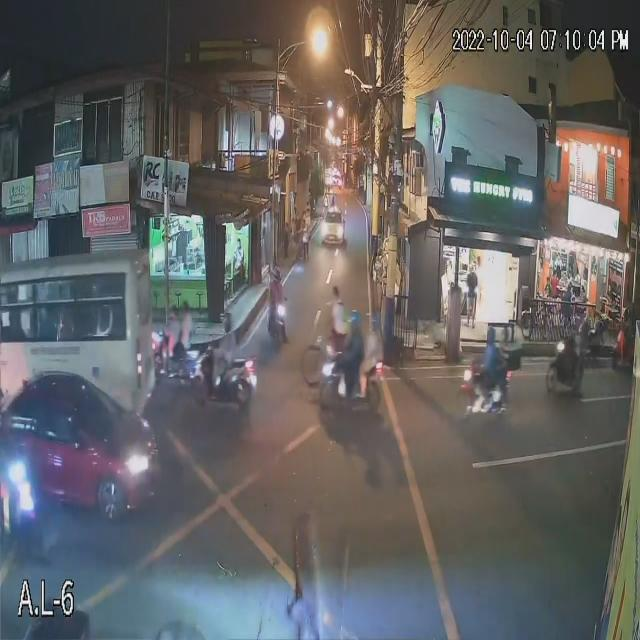0 motorcycle: (312, 359, 392, 421), (188, 359, 260, 412), (448, 363, 511, 419), (144, 331, 204, 389), (541, 347, 587, 399), (268, 300, 289, 342)
1 rider: (215, 331, 240, 383), (346, 328, 363, 386), (365, 332, 382, 389), (481, 345, 498, 391), (180, 311, 195, 353), (165, 320, 182, 356), (270, 280, 286, 315), (573, 329, 587, 368)
2 helmet: (343, 309, 364, 333), (218, 309, 236, 335), (366, 313, 384, 336), (163, 300, 181, 323), (483, 328, 498, 350), (271, 264, 285, 283)
